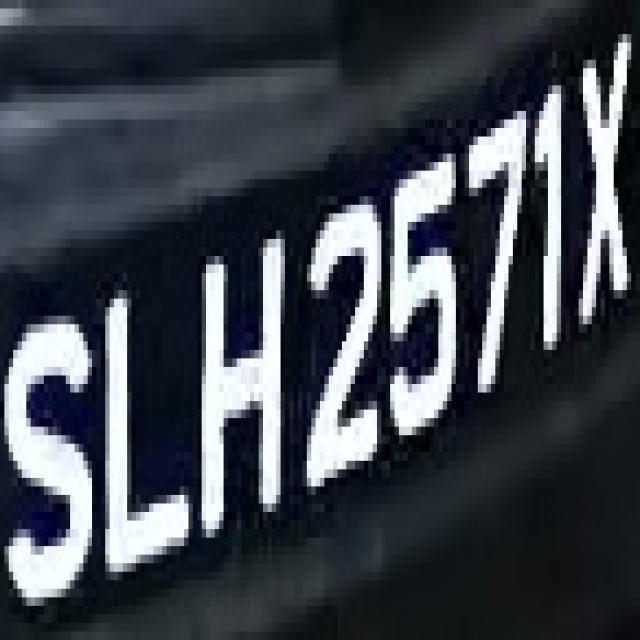1: (522, 69, 583, 358)
2: (294, 214, 390, 520)
5: (386, 136, 469, 461)
7: (447, 111, 539, 401)
H: (193, 230, 298, 589)
L: (101, 273, 188, 606)
S: (0, 4, 1, 9)
X: (556, 34, 636, 333)
